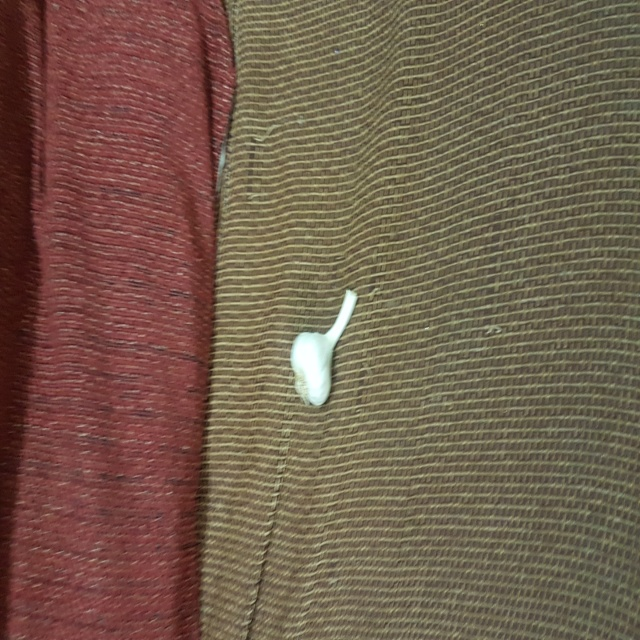garlic: (287, 290, 373, 410)
